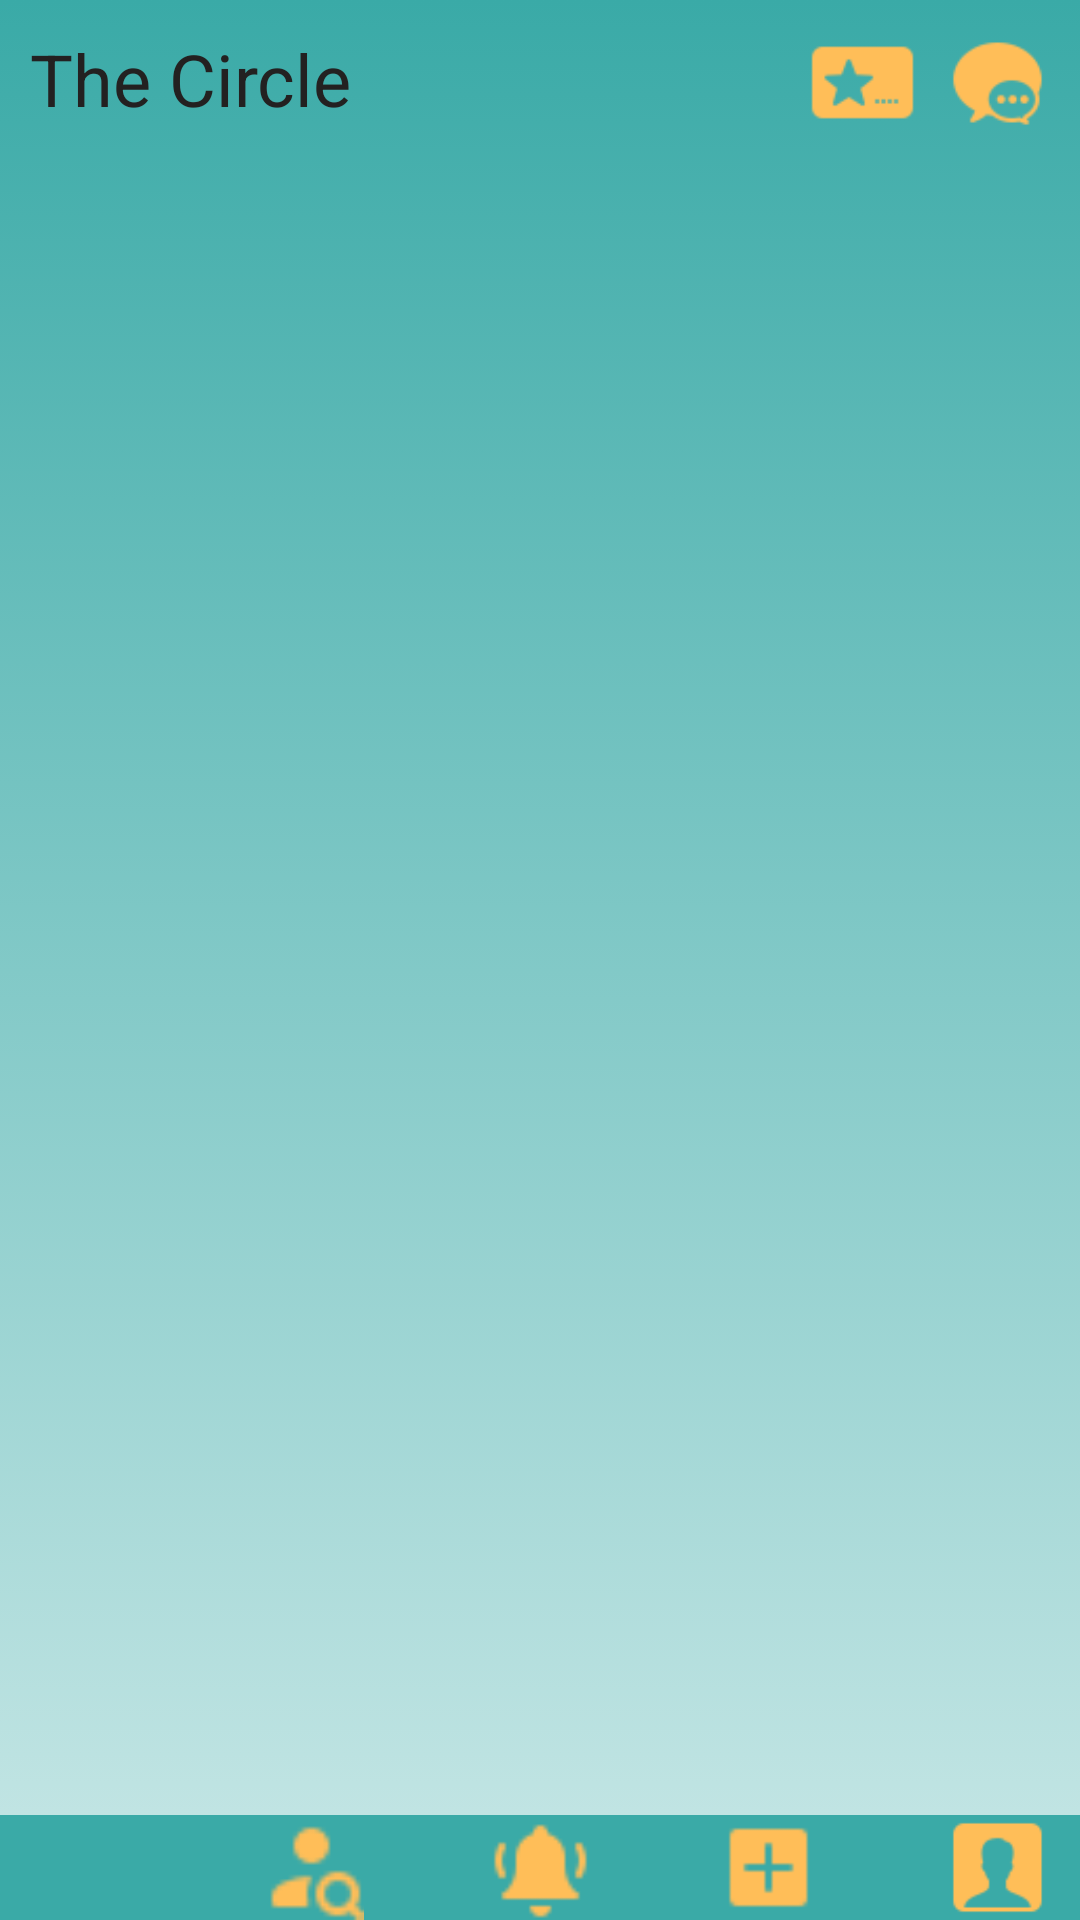

Where to tap for icons on this 1080px×1920px app screen, as (x=x, y=y):
add post: (x=768, y=1867)
messages: (x=997, y=83)
notification: (x=540, y=1871)
premium: (x=862, y=82)
profile: (x=997, y=1867)
search: (x=317, y=1873)
